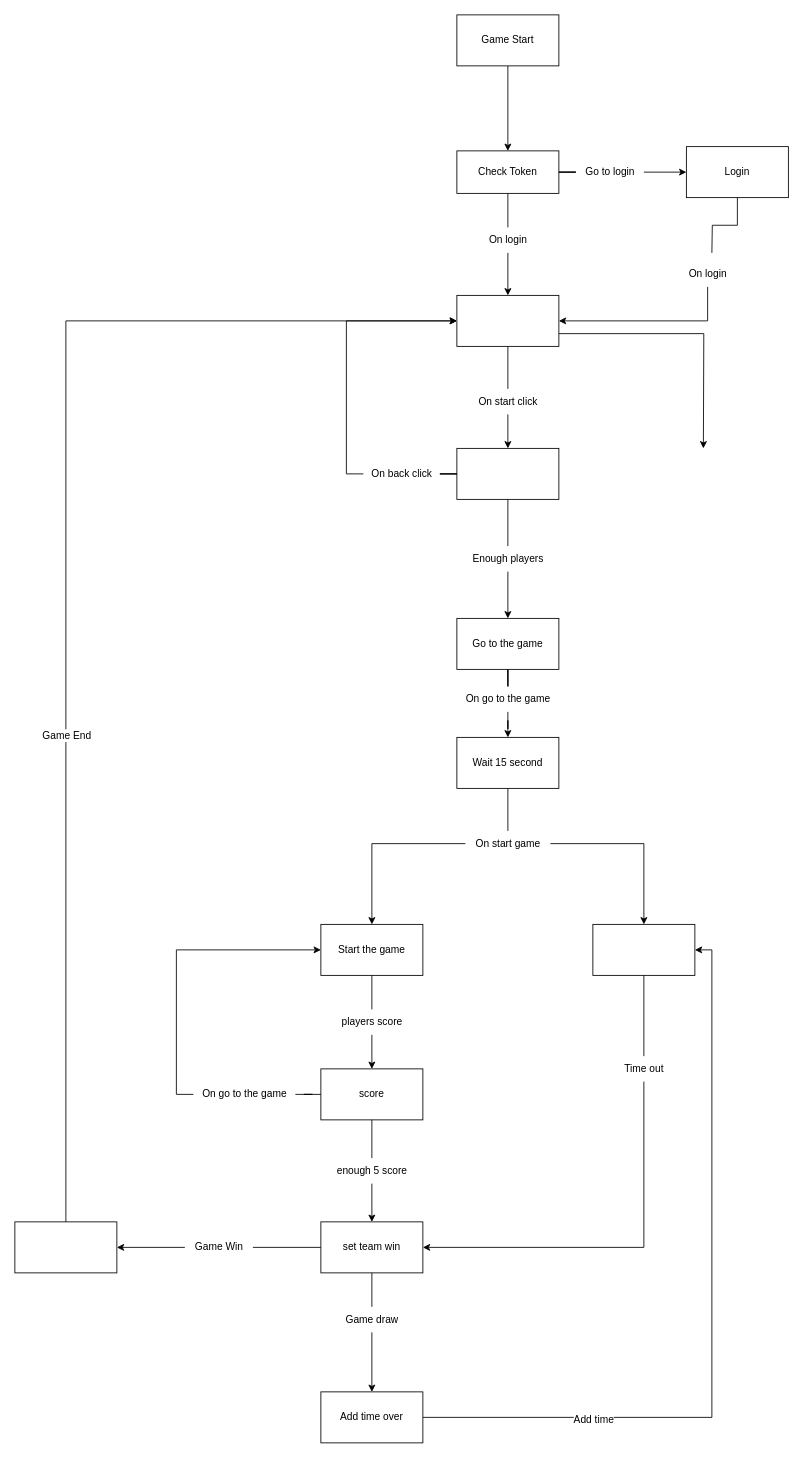
This 803x1458 diagram has some shape labels left out. The centre of each missing label's shape, as x and y in pixels:
"add score to db" goes at point 65,1247.
"Start Lobby" goes at point 507,320.
"Start time" goes at point 643,949.
"Wait Player" goes at point 507,473.
